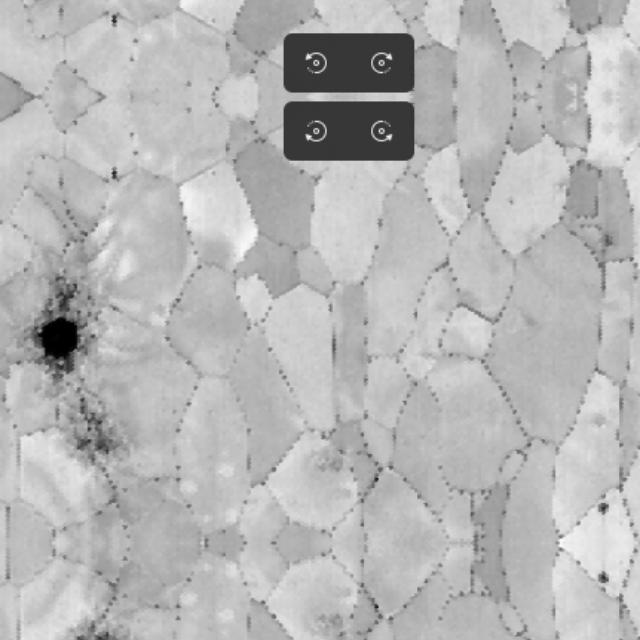good_void: (23, 272, 99, 382), (75, 391, 118, 462), (599, 230, 621, 258), (75, 626, 118, 640), (594, 499, 615, 520), (594, 568, 615, 589), (590, 412, 613, 431), (108, 162, 122, 182), (108, 12, 122, 32), (505, 195, 520, 210), (129, 146, 144, 160), (129, 34, 144, 48), (181, 103, 196, 116), (181, 78, 196, 91), (210, 168, 219, 179), (210, 15, 219, 26)
